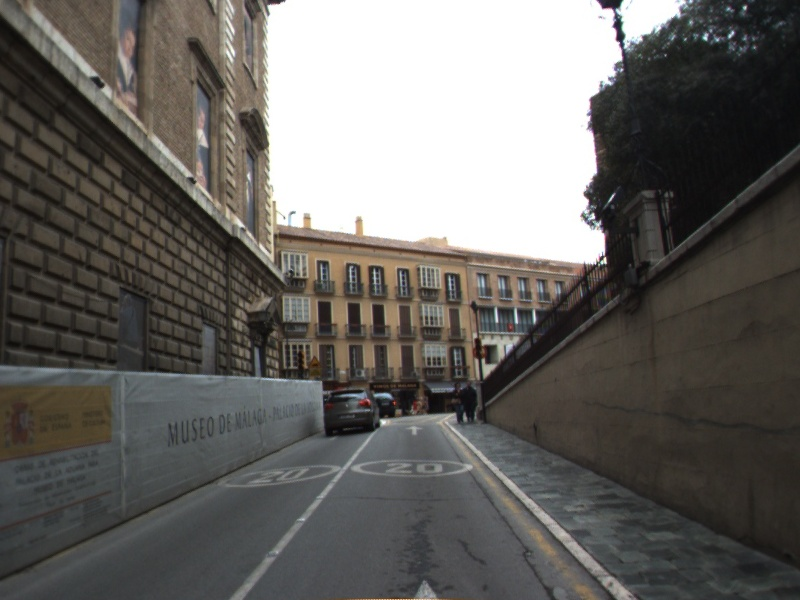STRAIGHT: (404, 423, 425, 437)
